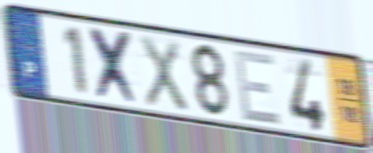1: (61, 26, 91, 98)
4: (288, 55, 327, 135)
8: (190, 40, 232, 120)
E: (232, 48, 284, 129)
X: (86, 24, 143, 109), (137, 32, 190, 115)
